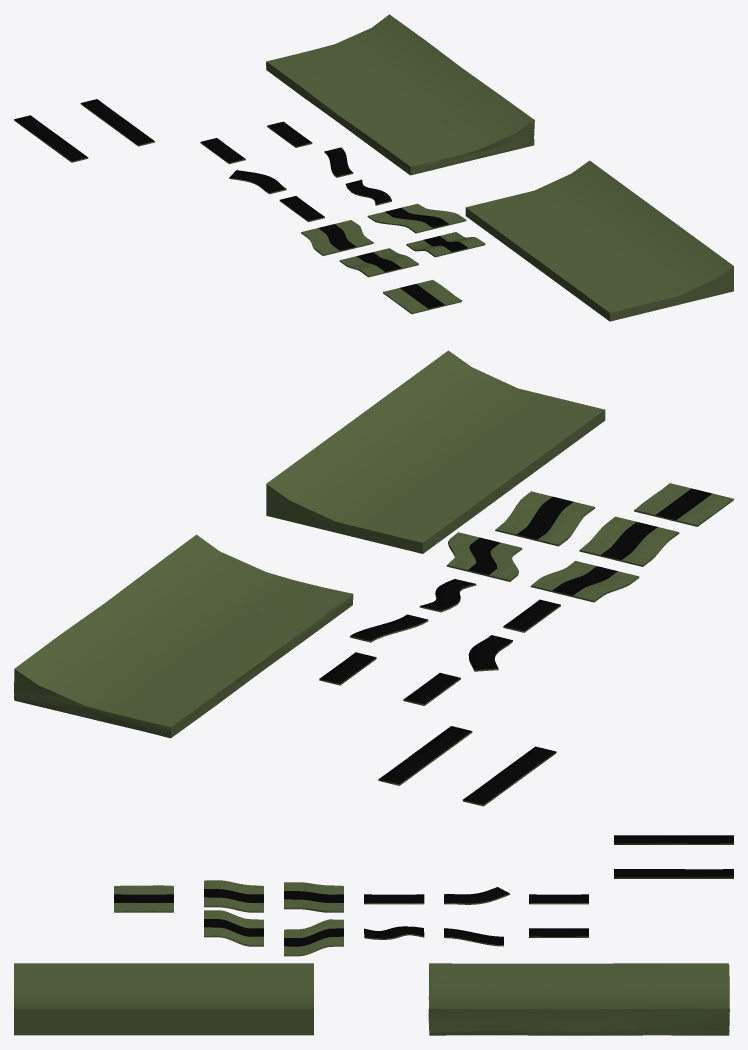
File: RoadTestV2.fbx
The picture shows the model from 3 angles, top to bottom: view 1: azimuth 30°, elevation 25°; view 2: azimuth 150°, elevation 25°; view 3: azimuth 270°, elevation 25°; orthographic projection. The views are drawn at different scales.
Visible parts, largest first — view 1: Cube, Cube.001, Plane.001, Plane.006, Plane, Plane.002, Plane.003, Plane.011, Plane.012, Plane.007, Plane.005, Plane.010 (+3 smaller); view 2: Cube, Cube.001, Plane.003, Plane.002, Plane, Plane.006, Plane.001, Plane.011, Plane.012, Plane.007, Plane.008, Plane.005 (+3 smaller); view 3: Cube.001, Cube, Plane.002, Plane.001, Plane.003, Plane, Plane.006, Plane.011, Plane.012, Plane.007, Plane.004, Plane.009 (+3 smaller).
Boxes of the visible parts, x1,y1,x2,y2 form: Cube: (465,160,733,321); Cube.001: (266,14,534,175); Plane.001: (367,203,466,233); Plane.006: (383,280,462,314); Plane: (301,220,373,255); Plane.002: (339,248,418,277); Plane.003: (406,232,485,257); Plane.011: (14,115,88,162); Plane.012: (80,99,154,146); Plane.007: (229,170,286,194); Plane.005: (345,179,391,205); Plane.010: (267,121,312,147); Cube: (266,350,605,553); Cube.001: (14,534,353,738); Plane.003: (495,491,595,546); Plane.002: (579,516,679,566); Plane: (530,561,639,602); Plane.006: (634,483,733,526); Plane.001: (446,532,522,581); Plane.011: (462,746,556,806); Plane.012: (378,726,472,785); Plane.007: (468,635,512,671); Plane.008: (350,614,428,642); Plane.005: (419,579,476,612); Cube.001: (428,963,729,1035); Cube: (14,963,313,1035); Plane.002: (204,880,263,912); Plane.001: (284,919,343,956); Plane.003: (204,910,263,946); Plane: (284,882,343,912); Plane.006: (114,885,173,912); Plane.011: (614,835,733,844); Plane.012: (614,869,733,878); Plane.007: (444,887,509,904); Plane.004: (364,894,424,904); Plane.009: (529,894,588,904).
Size of the model in its own units: 8991 by 591 by 14393.
